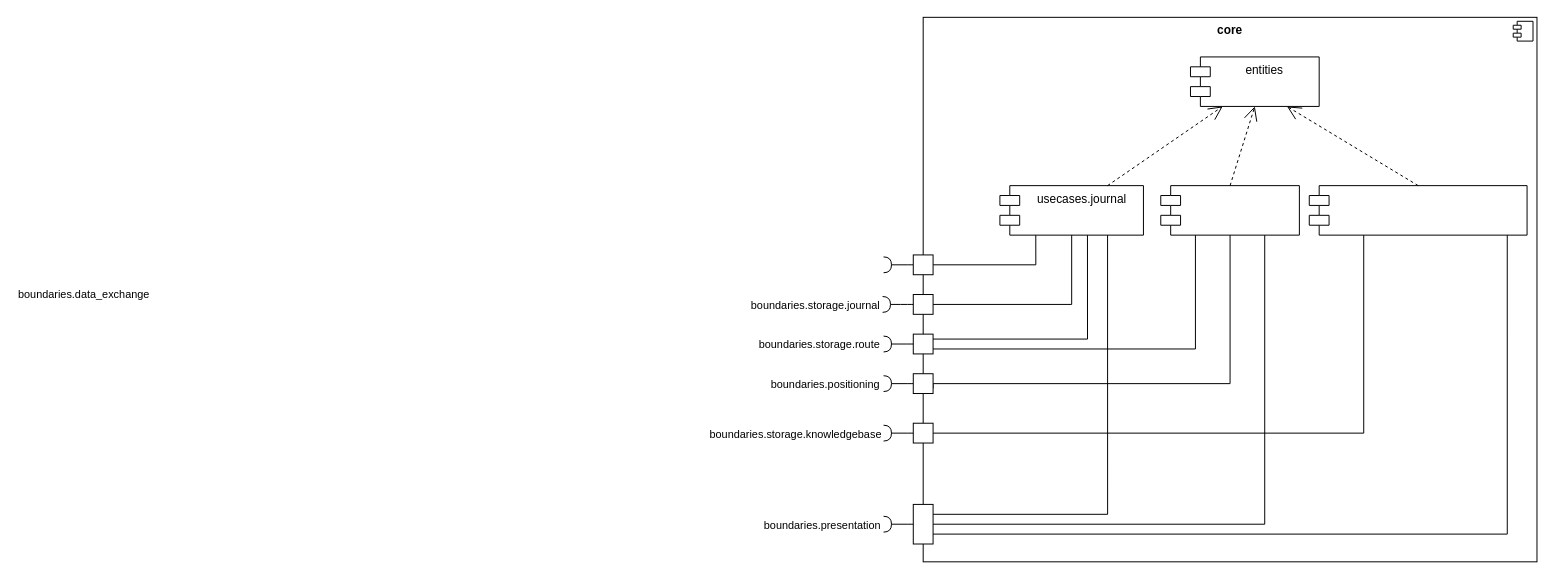
Some shapes in this 1554 by 579 pixel diagram are drawn without their labels. The shapes that lost their labels are listed below. From the top down, each one's centre as x and y in pixels, then its label:
At (x=1229, y=210): "usecases.routes".
At (x=1417, y=210): "usecases.knowledgebase".
